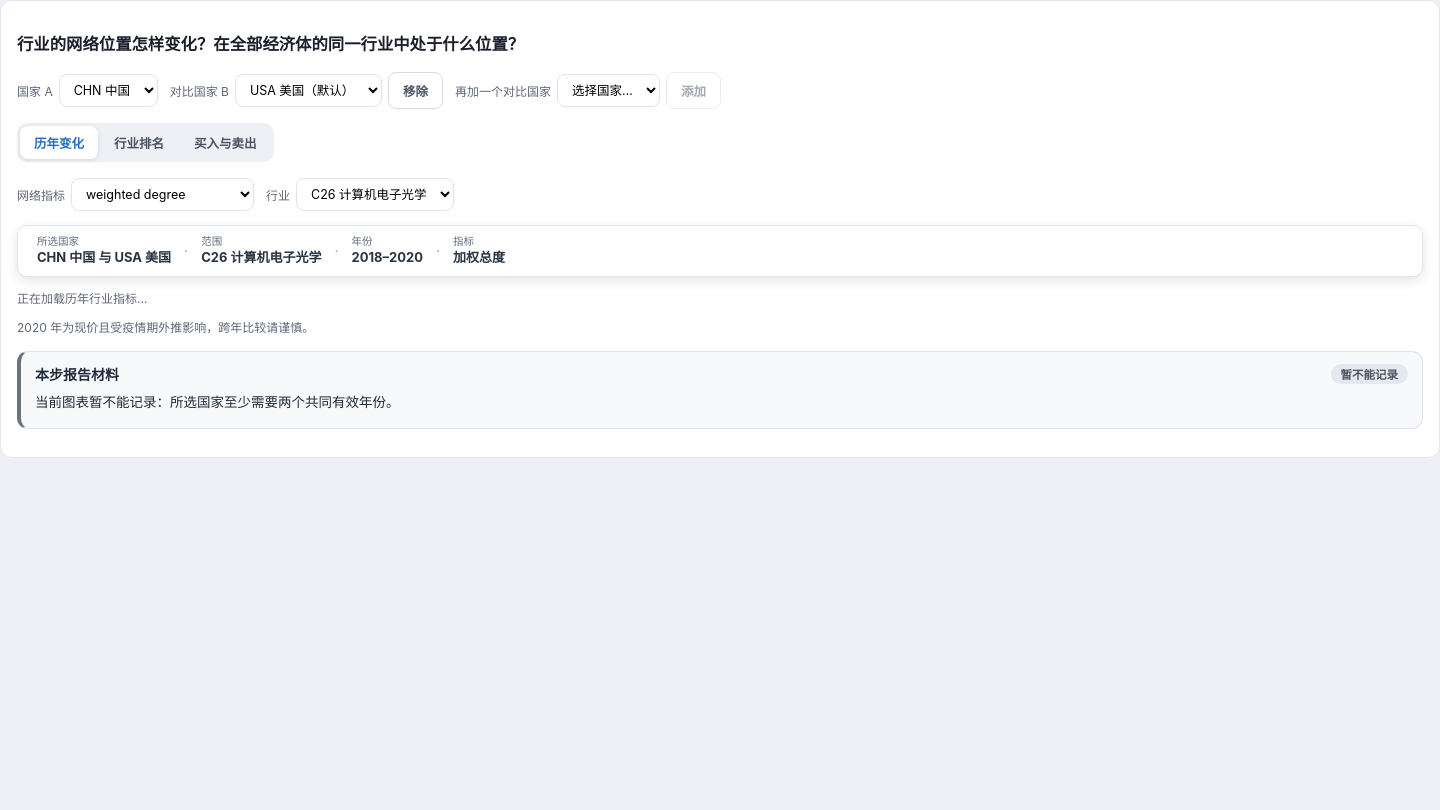
Test: requires at least two years that are valid for both countries before the chart can be recorded
This screenshot has width=1440, height=810.
Select "betweenesscentrality" in the dropdown labelled "网络指标": (162, 194) [71, 178, 254, 211]
(page scrolled)
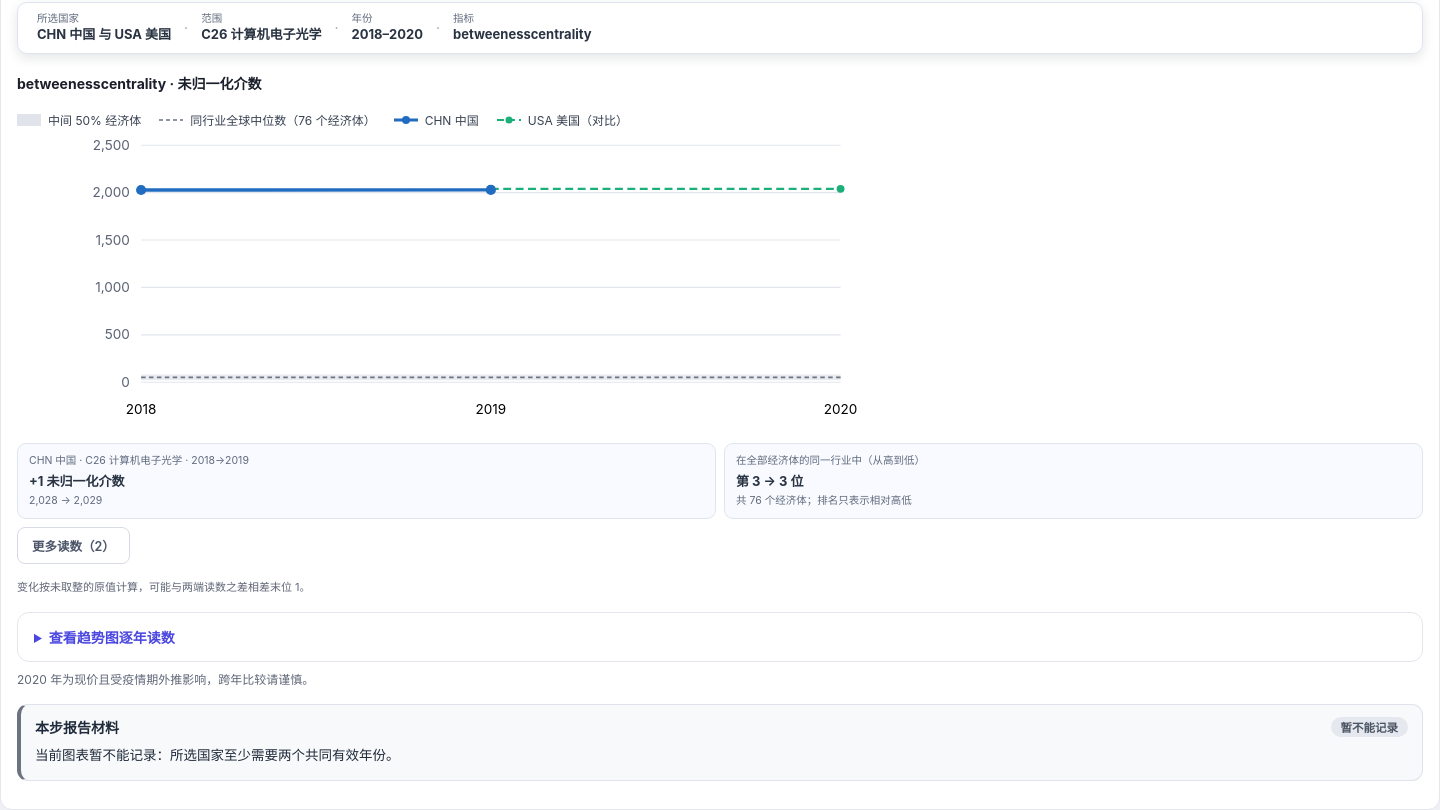
Expected: the message "当前图表暂不能记录：所选国家至少需要两个共同有效年份。" is shown, [35, 746, 400, 762]
Expected: the picture is shown, [17, 134, 897, 434]
